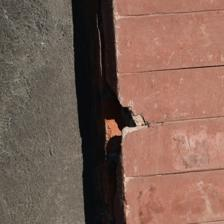Crack: (92, 12, 154, 156)
